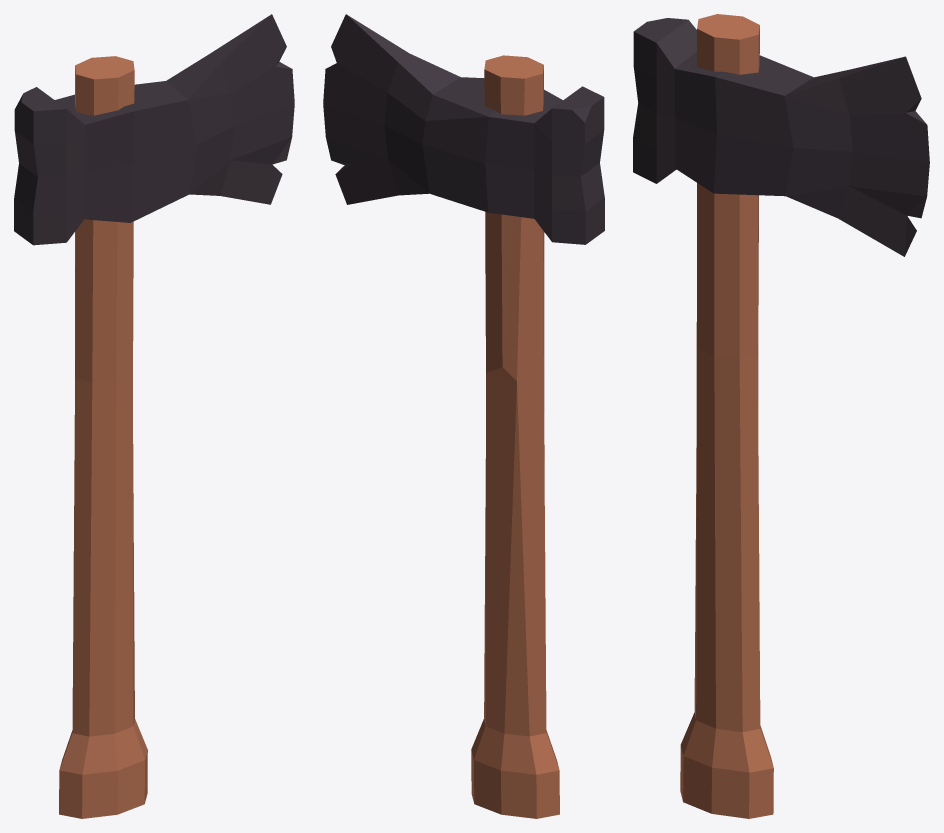
File: Axe.fbx
3 renders of one model, left to right at view 1: azimuth 30°, elevation 25°; view 2: azimuth 150°, elevation 25°; view 3: azimuth 330°, elevation 25°, orthographic. The views are drawn at different scales.
Visible parts, largest first — view 1: Axe; view 2: Axe; view 3: Axe.
Boxes of the visible parts, bbox=[...] form: Axe: bbox=[14, 14, 294, 818]; Axe: bbox=[323, 14, 604, 818]; Axe: bbox=[633, 14, 929, 818].
Size of the model in its own units: 0.3672 by 0.9677 by 0.0954.
